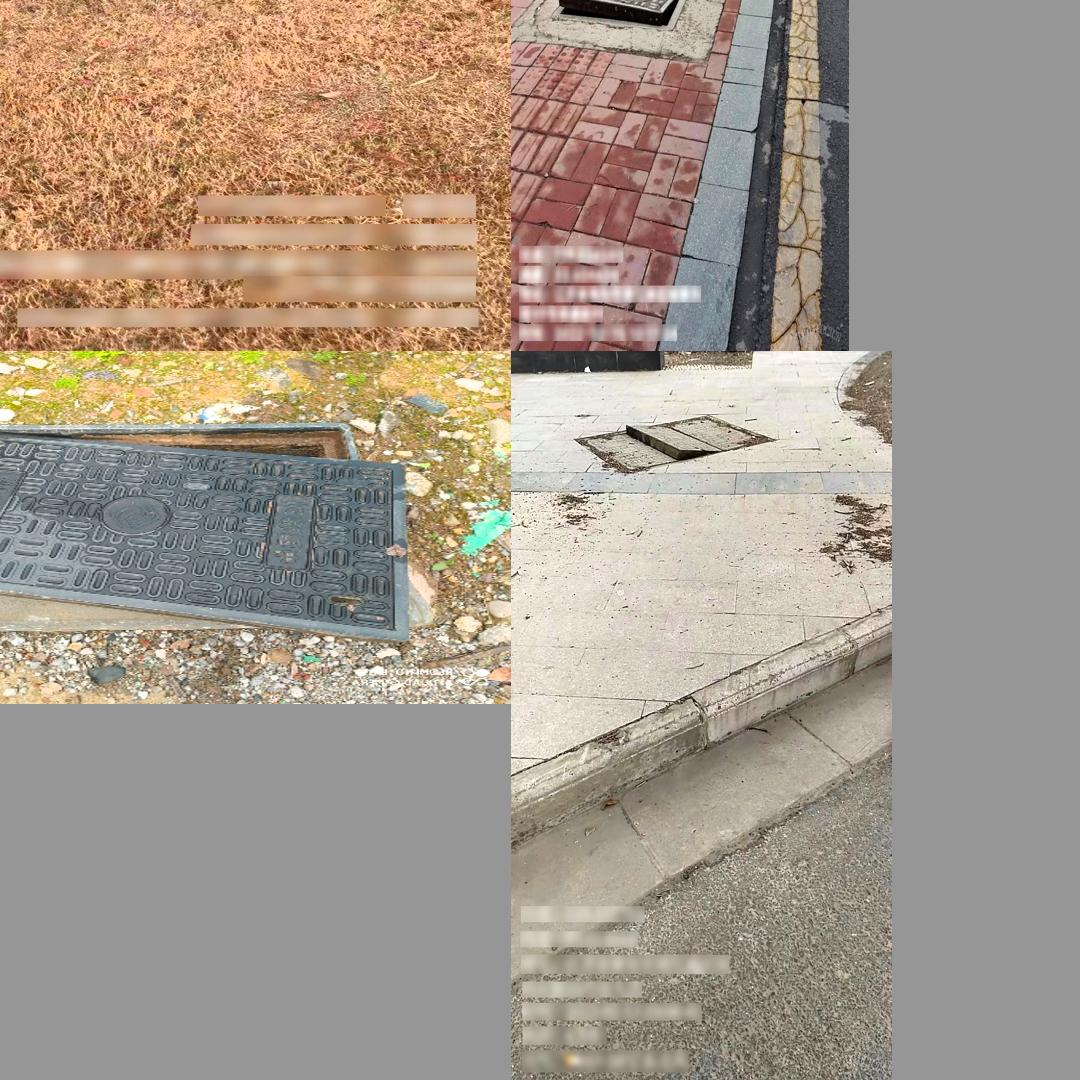uncovered: (0, 422, 409, 637), (575, 416, 776, 471), (549, 0, 705, 28)
